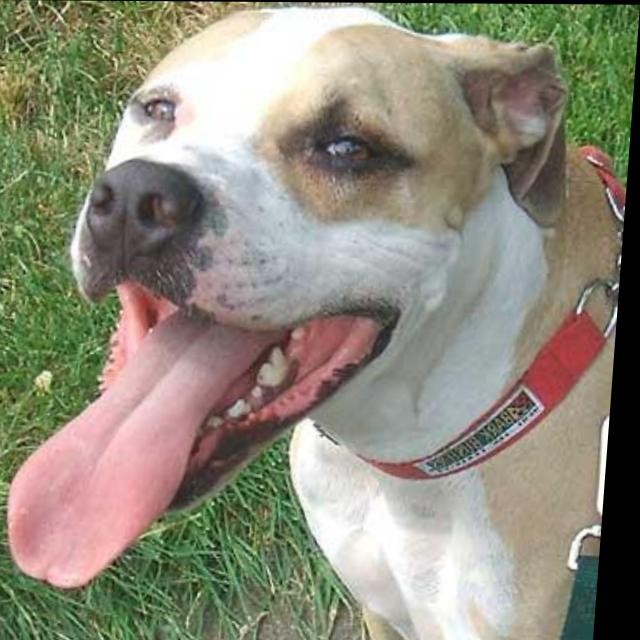amstaff: (10, 1, 640, 640)
